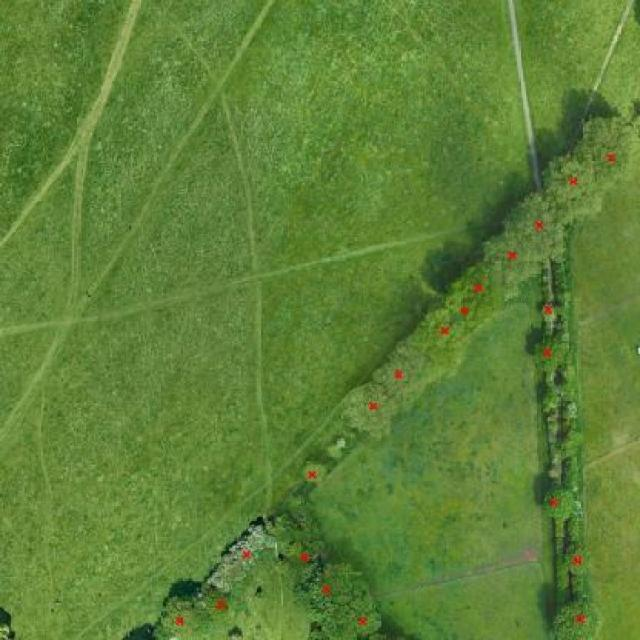tree: (369, 335, 466, 410), (202, 512, 281, 597), (500, 188, 577, 274), (572, 106, 639, 200), (399, 299, 479, 376), (295, 555, 377, 620), (536, 149, 605, 225), (469, 232, 542, 297), (337, 377, 401, 449), (317, 595, 389, 640), (455, 263, 514, 315), (150, 591, 212, 640), (545, 592, 607, 640), (524, 330, 578, 382), (442, 287, 484, 350), (537, 480, 581, 528), (296, 452, 333, 495), (199, 587, 235, 628), (560, 541, 595, 582), (534, 296, 565, 330), (288, 541, 320, 573), (562, 398, 583, 427), (0, 613, 14, 639)
